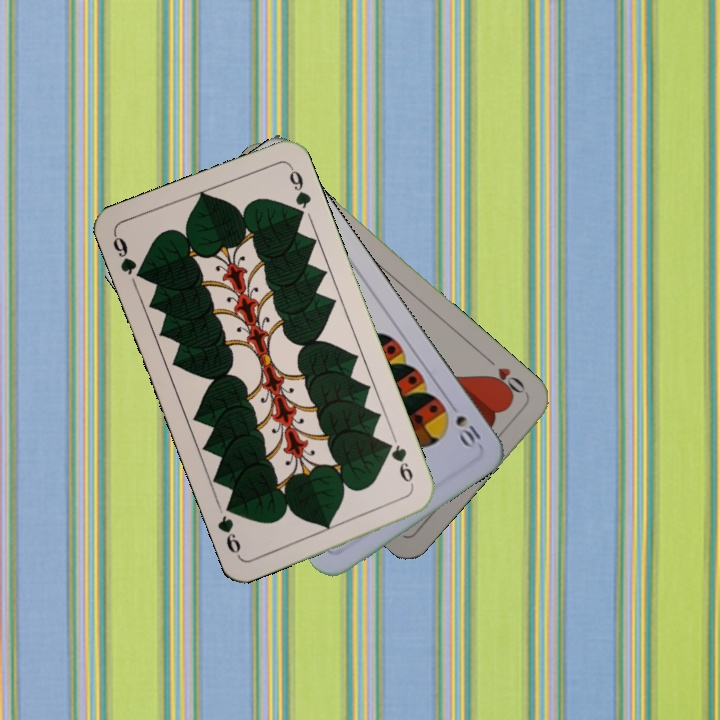G9: (109, 231, 148, 283), (381, 438, 417, 492)
HO: (481, 353, 530, 400)
S10: (444, 397, 487, 452)
